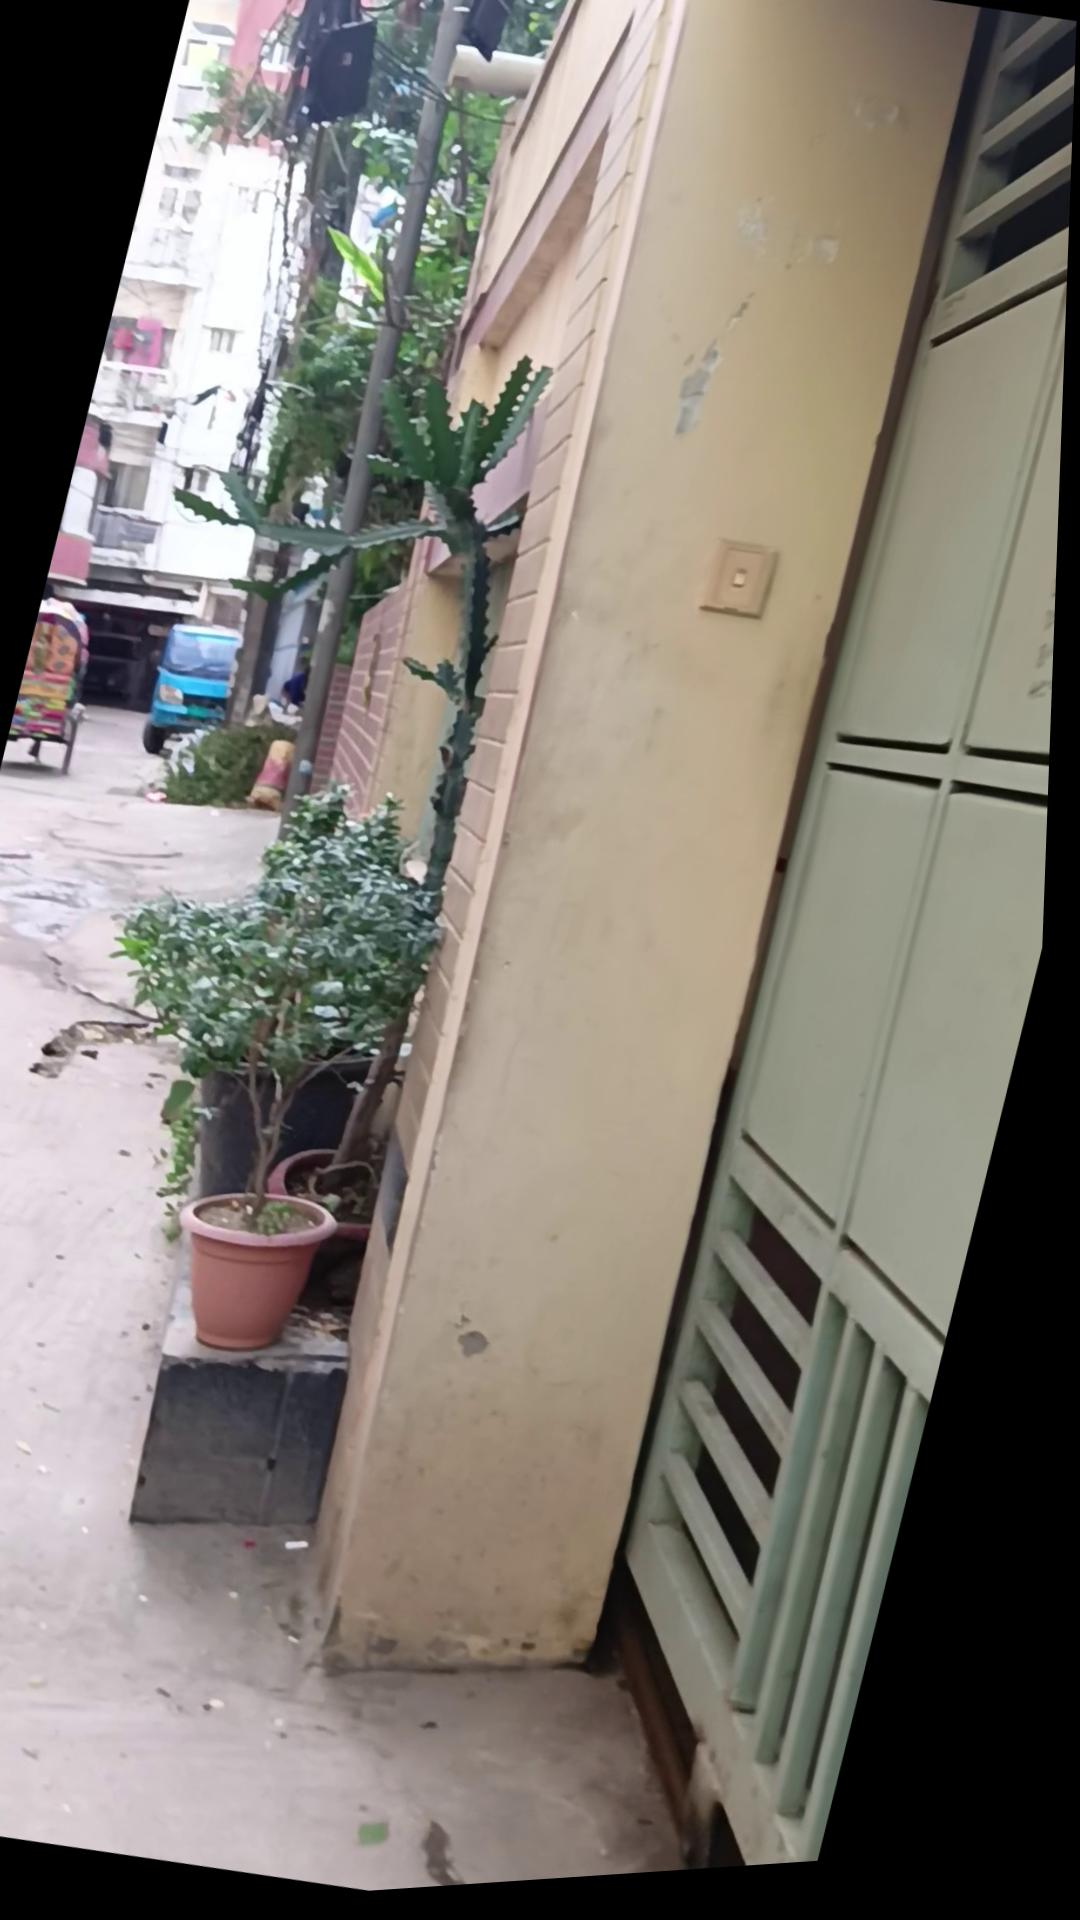Broken-road: (0, 644, 1021, 1920)
Crosswalk: (127, 1288, 377, 1564)
Muddy road: (281, 657, 318, 717)
Obstacle: (244, 0, 524, 861)
Pole: (22, 737, 481, 1390)
Pothole: (5, 592, 117, 782)
Traffic-sign: (140, 616, 255, 771)
